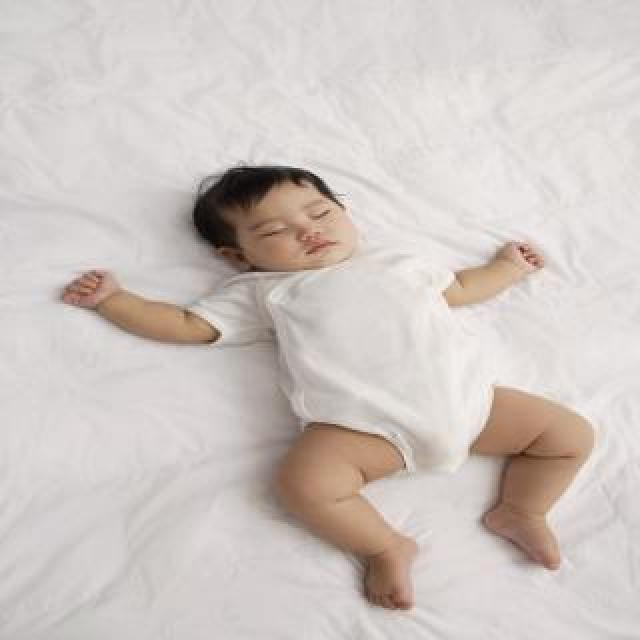baby: (65, 162, 597, 610)
